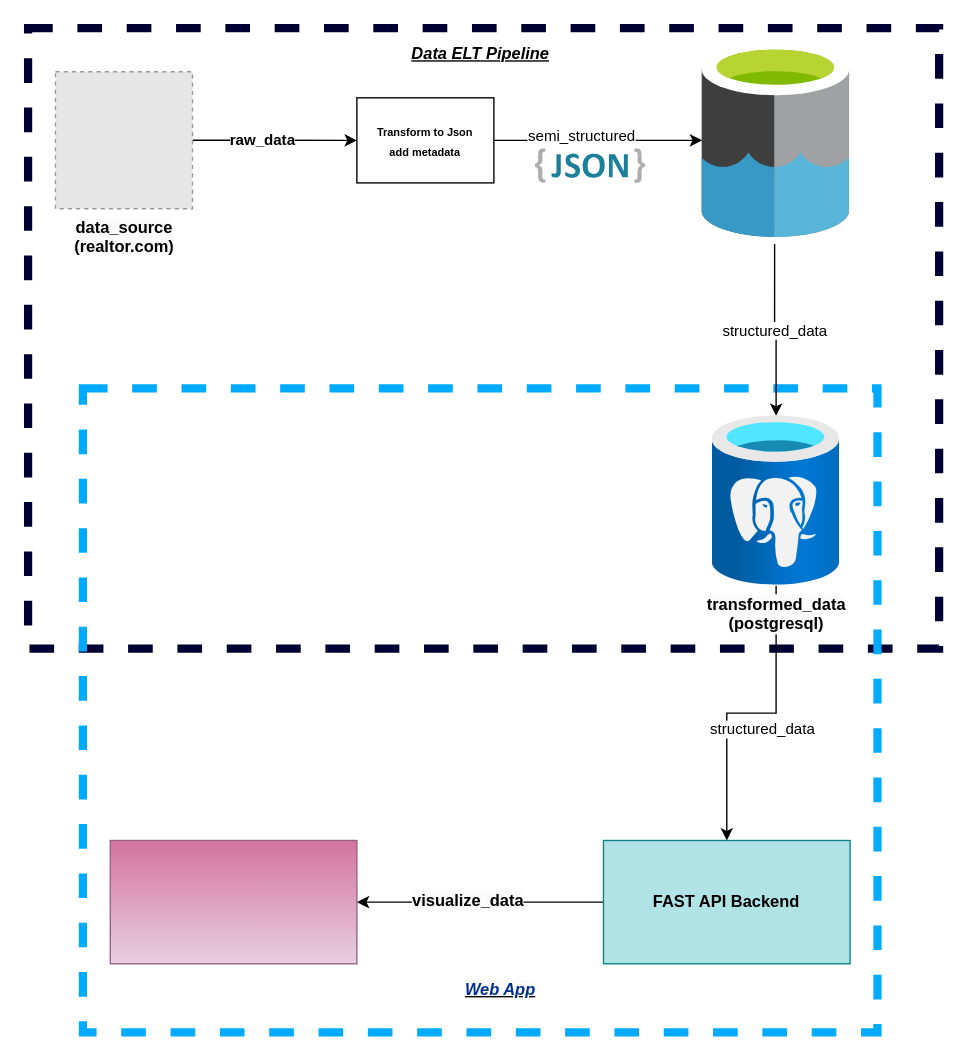
Some shapes in this 966 by 1059 pixel diagram are drawn without their labels. Grey dashed boxes stand in for pictures. Each missing label, with the box of its shape:
data_lake (mongo_db): (701, 42, 849, 237)
React Web App: (109, 839, 357, 964)
